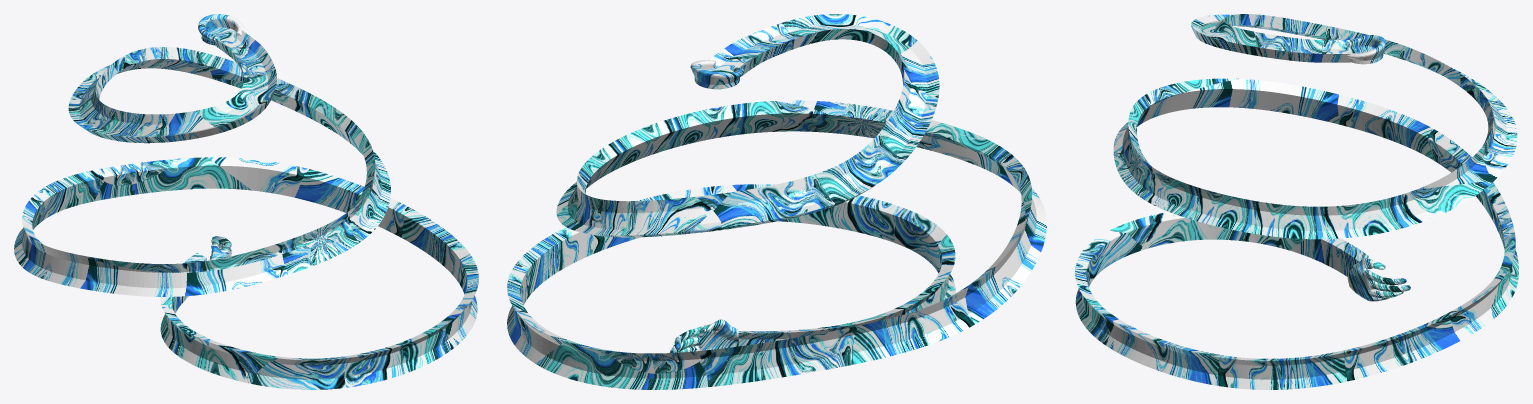
Rendered from 06_string of nyx.fbx.
The picture shows the model from 3 angles, left to right: view 1: azimuth 30°, elevation 25°; view 2: azimuth 150°, elevation 25°; view 3: azimuth 270°, elevation 25°; orthographic projection. The views are drawn at different scales.
Parts seen in each view (by area): view 1: Cube.001; view 2: Cube.001; view 3: Cube.001.
Part boxes in pixels (x1=…): Cube.001: x1=14, y1=14, x2=478, y2=389; Cube.001: x1=507, y1=14, x2=1046, y2=389; Cube.001: x1=1075, y1=14, x2=1518, y2=389.
Bounding box in the file's own units: 30.4 × 18.47 × 28.77.
